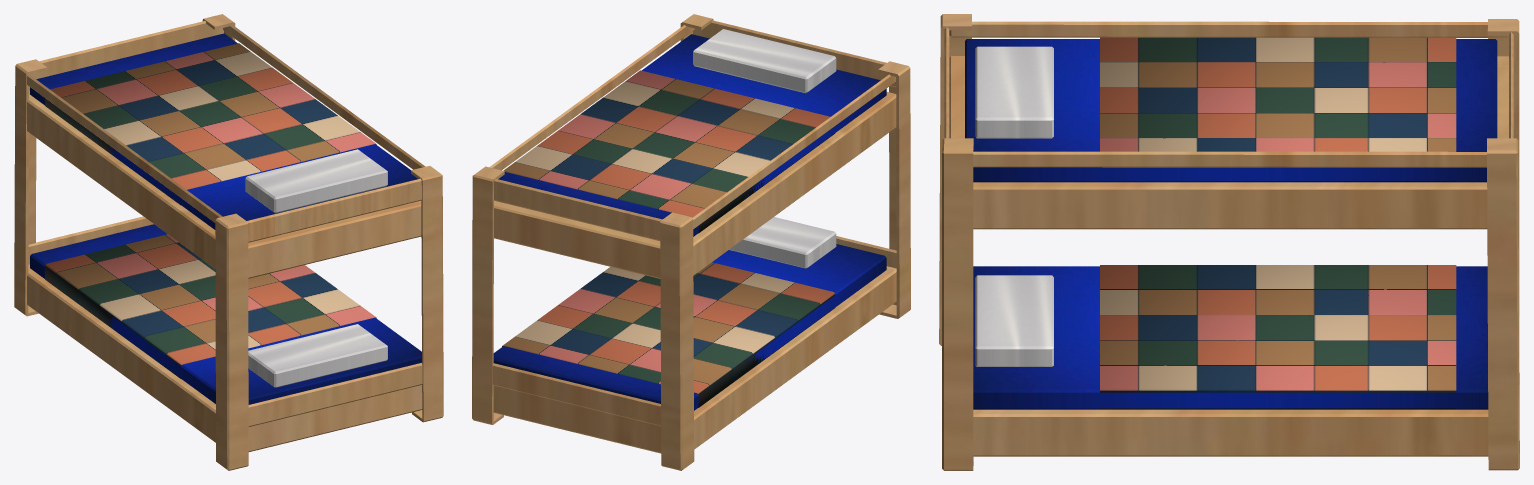
File: Litera.obj
3 views of the same model, side by side, from view 1: azimuth 30°, elevation 25°; view 2: azimuth 150°, elevation 25°; view 3: azimuth 270°, elevation 25° (orthographic). The views are drawn at different scales.
Visible parts, largest first — view 1: Litera; view 2: Litera; view 3: Litera.
Boxes of the visible parts, bbox=[...] form: Litera: bbox=[14, 14, 443, 470]; Litera: bbox=[472, 14, 910, 470]; Litera: bbox=[939, 14, 1519, 470].
Size of the model in its own units: 4.42 by 4.82 by 7.79.
